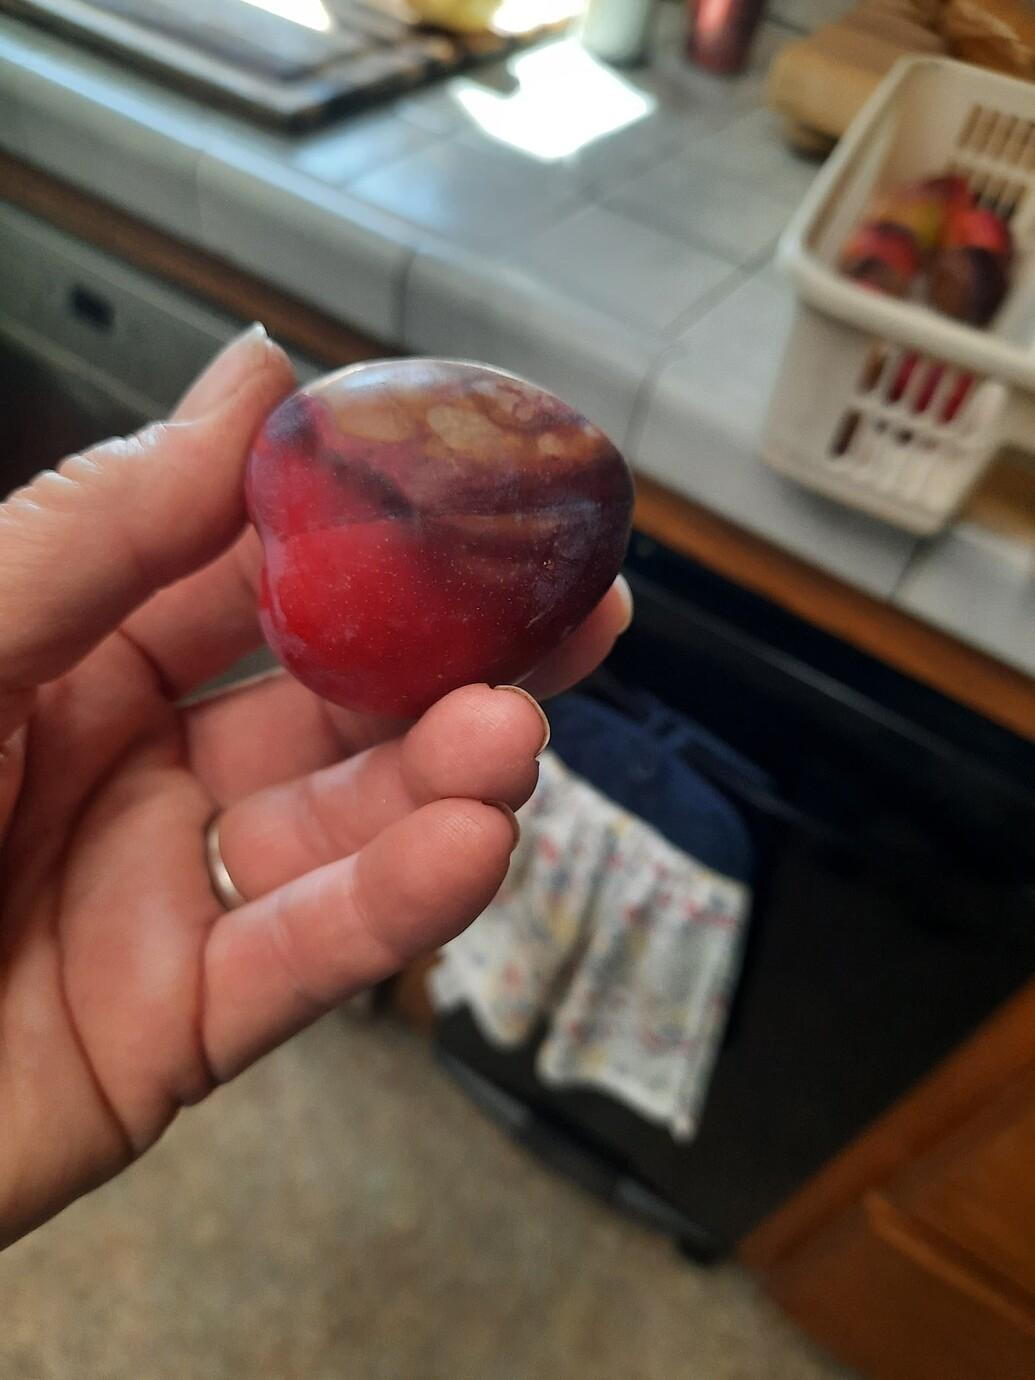plum_C: (244, 358, 634, 720)
